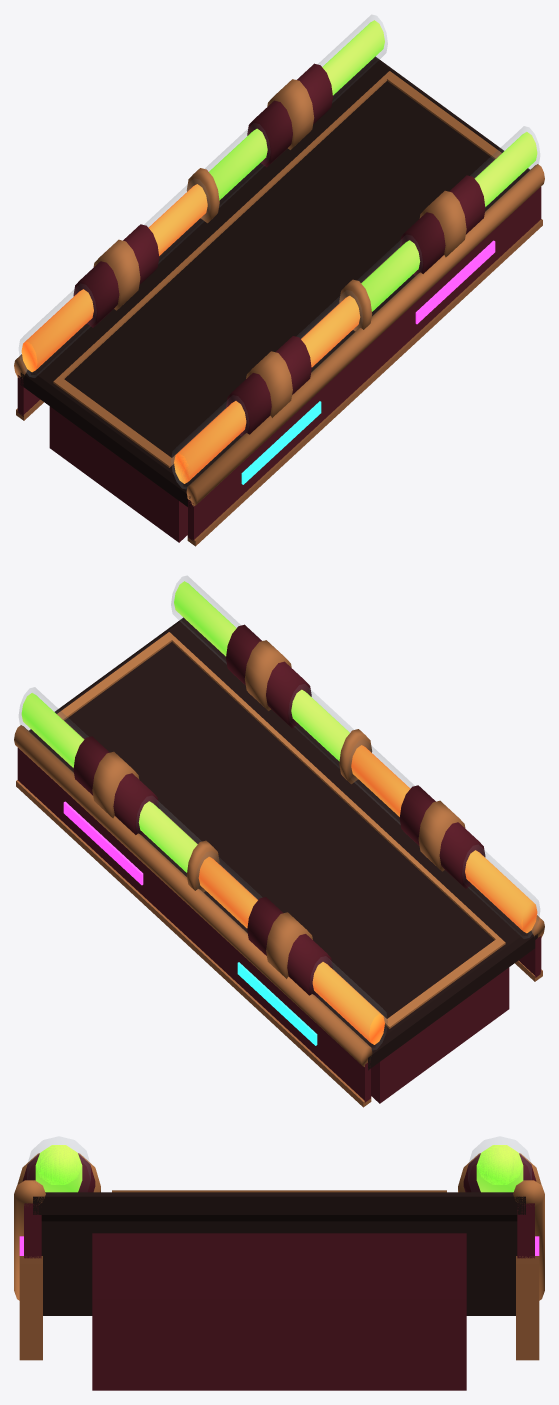
The model's file is Deck_Overpass_Ramp.glb.
3 renders of one model, top to bottom at view 1: azimuth 30°, elevation 25°; view 2: azimuth 150°, elevation 25°; view 3: azimuth 270°, elevation 25°, orthographic. The views are drawn at different scales.
Visible parts, largest first — view 1: CP_Deck_Overpass_Ramp; view 2: CP_Deck_Overpass_Ramp; view 3: CP_Deck_Overpass_Ramp.
Part boxes in pixels (bbox=[...]): CP_Deck_Overpass_Ramp: bbox=[14, 15, 544, 546]; CP_Deck_Overpass_Ramp: bbox=[14, 576, 544, 1107]; CP_Deck_Overpass_Ramp: bbox=[14, 1136, 544, 1390].
Bounding box in the file's own units: 4 × 3.76 × 3.66.
